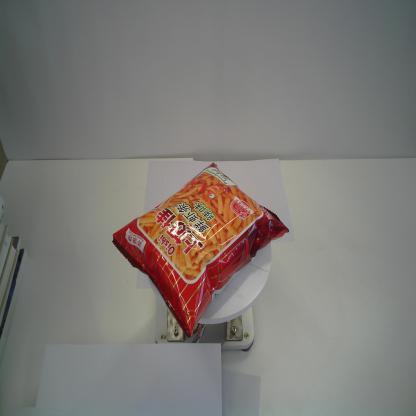Puffed Food: (112, 160, 290, 339)
